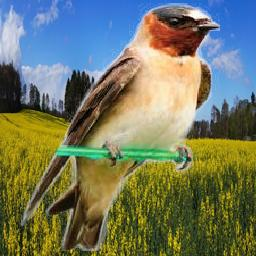Swallow: (22, 3, 221, 251)
